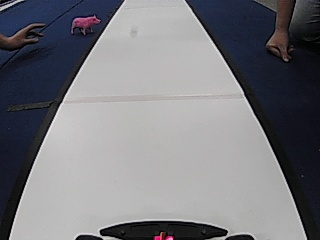pig: (68, 13, 101, 36)
